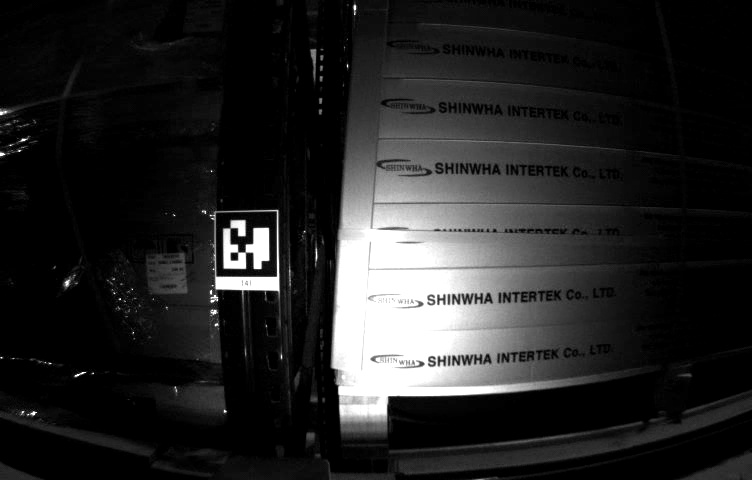True Barcode: (144, 251, 188, 295)
